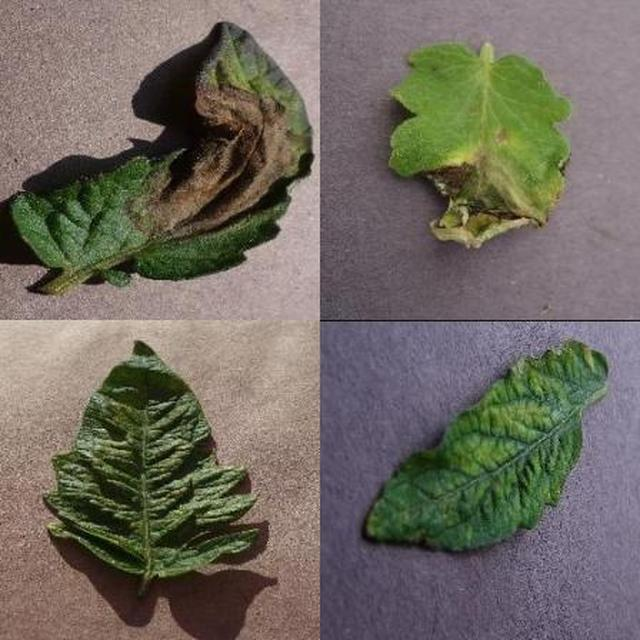Late Blight Leaf: (216, 210, 640, 640)
